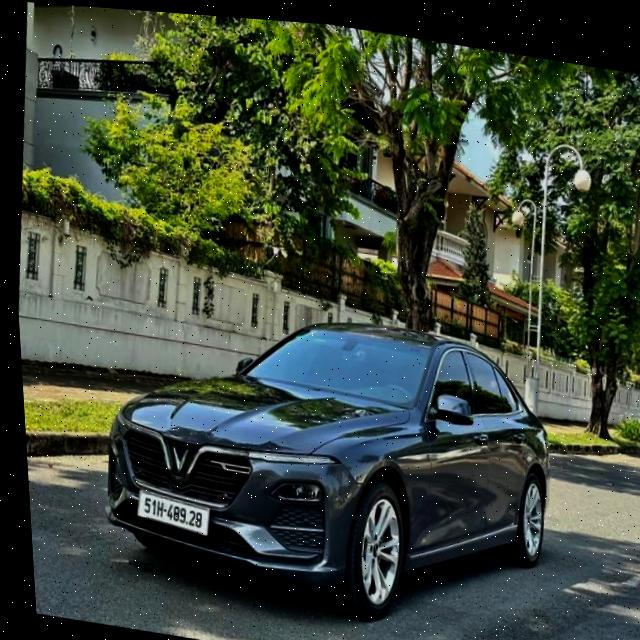car: (87, 279, 580, 640)
plate: (130, 484, 217, 541)
